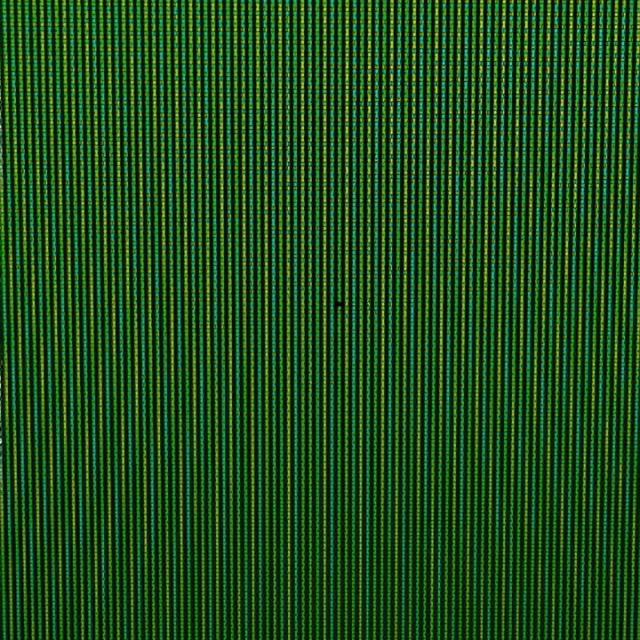Dead pixel: (333, 300, 345, 308)
